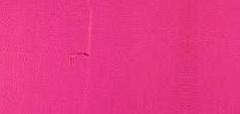snag: (62, 48, 93, 66)
